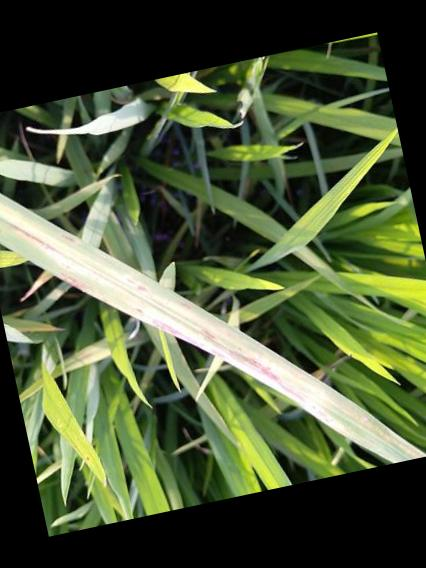Leaf Blight: (195, 327, 296, 394), (360, 416, 426, 460), (9, 224, 66, 254), (148, 319, 190, 338), (55, 274, 91, 291), (133, 283, 151, 295), (62, 231, 77, 241), (134, 306, 142, 313)
